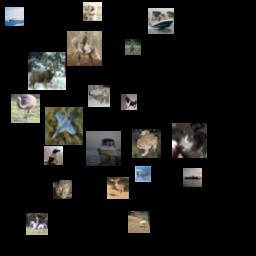airplane: (45, 107, 83, 145), (135, 166, 151, 182)
bird: (11, 94, 40, 123)
cat: (172, 123, 207, 158), (88, 85, 110, 107), (53, 180, 72, 199)
deer: (28, 52, 66, 90), (128, 211, 150, 233), (107, 177, 129, 199), (125, 39, 141, 55)
dog: (83, 2, 102, 21), (44, 146, 63, 165), (121, 94, 137, 110)
frog: (132, 129, 161, 158)
ship: (86, 131, 121, 166), (148, 8, 174, 34), (5, 7, 24, 26), (183, 168, 202, 187)
